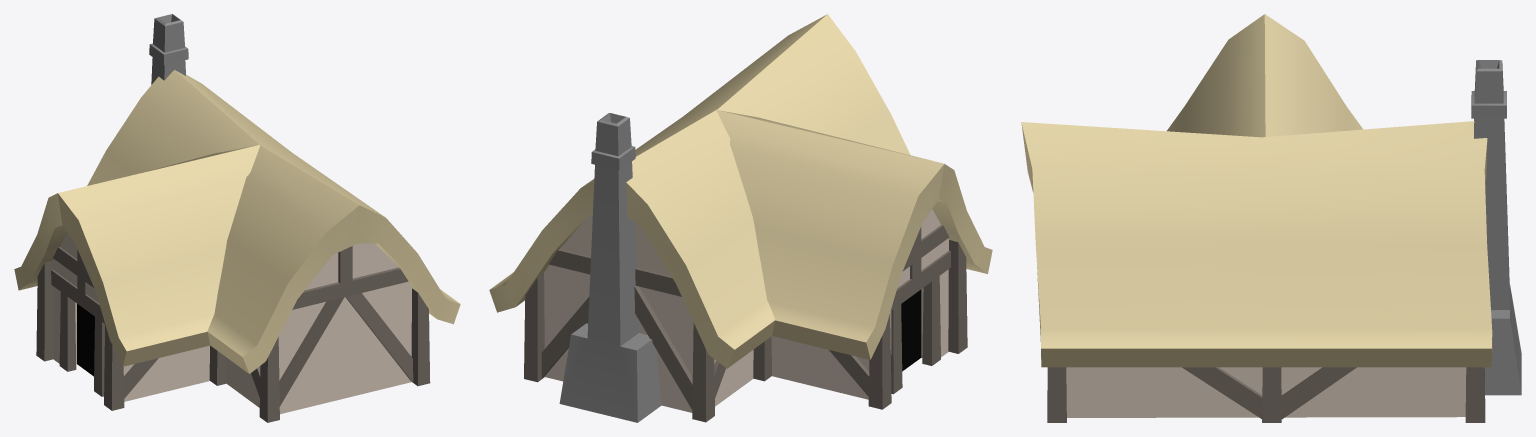
Rendered from MESH_TownHall.fbx.
The picture shows the model from 3 angles, left to right: view 1: azimuth 30°, elevation 25°; view 2: azimuth 150°, elevation 25°; view 3: azimuth 270°, elevation 25°; orthographic projection. The views are drawn at different scales.
Visible parts, largest first — view 1: MESH_TownHall; view 2: MESH_TownHall; view 3: MESH_TownHall.
Boxes of the visible parts, x1=… form: MESH_TownHall: x1=14, y1=14, x2=460, y2=422; MESH_TownHall: x1=489, y1=14, x2=992, y2=422; MESH_TownHall: x1=1021, y1=14, x2=1521, y2=422.
Bounding box in the file's own units: 548 × 426 × 620.
